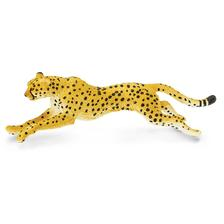Cheetah: (7, 71, 219, 144)
